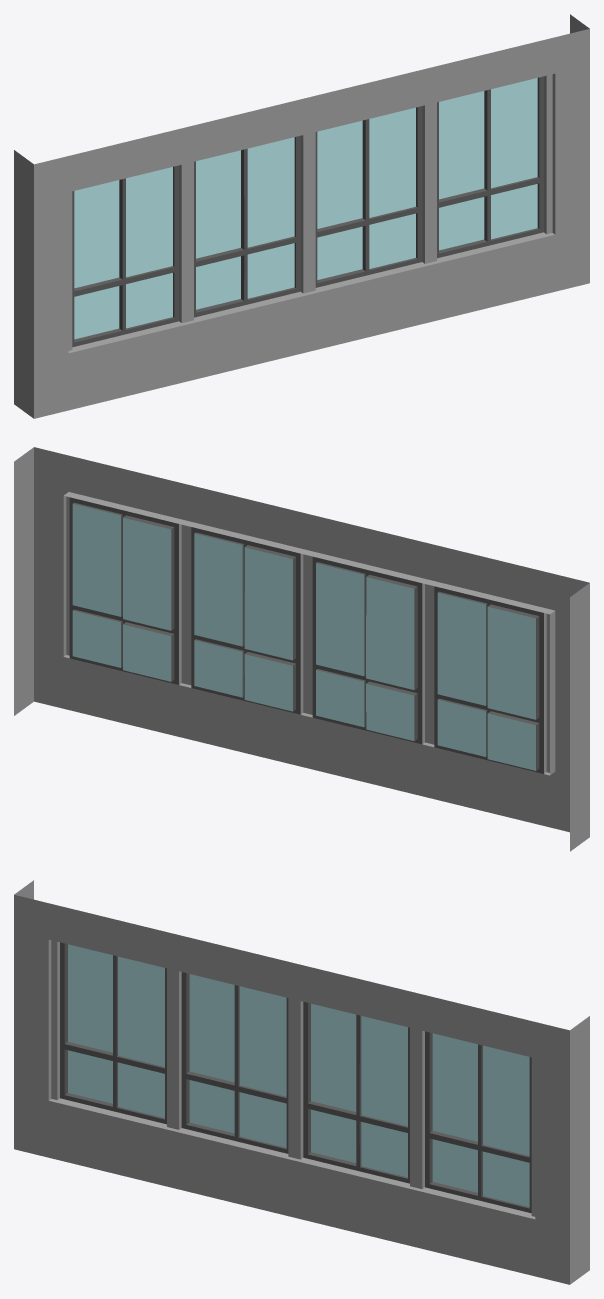
Rendered from QuadCrossWindow.fbx.
3 views of the same model, one above another, from view 1: azimuth 30°, elevation 25°; view 2: azimuth 150°, elevation 25°; view 3: azimuth 330°, elevation 25° (orthographic).
Visible parts, largest first — view 1: QuadCrossWindow; view 2: QuadCrossWindow; view 3: QuadCrossWindow.
Boxes of the visible parts, x1,y1,x2,y2 form: QuadCrossWindow: (14, 14, 589, 418); QuadCrossWindow: (14, 447, 589, 851); QuadCrossWindow: (14, 880, 589, 1284).
Bounding box in the file's own units: 800 × 350 × 50.
